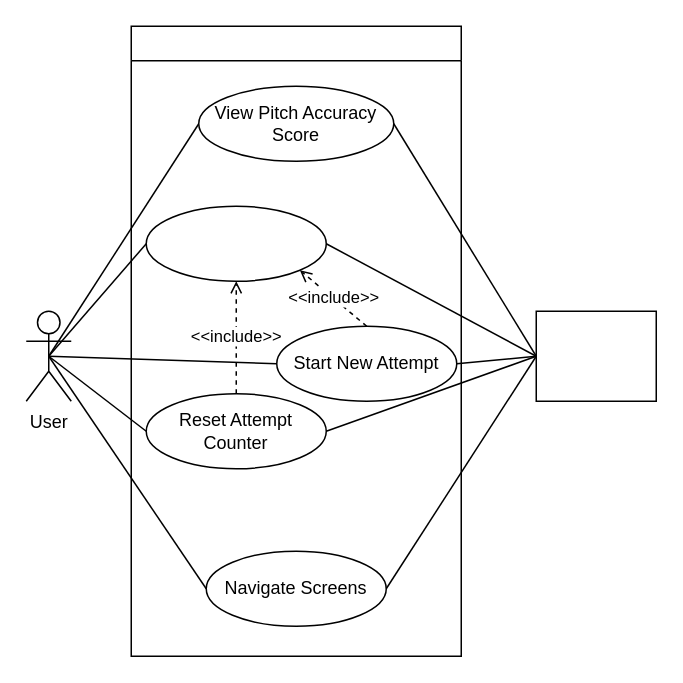
Image size: 683x683. Some labels were removed from this diagram. Each missing label, with the box of its shape:
<< actor >> Sight Reading System: (535, 310, 656, 401)
Input Keys (Notes): (145, 205, 326, 281)
Sight Reading Practice App: (130, 25, 461, 656)
